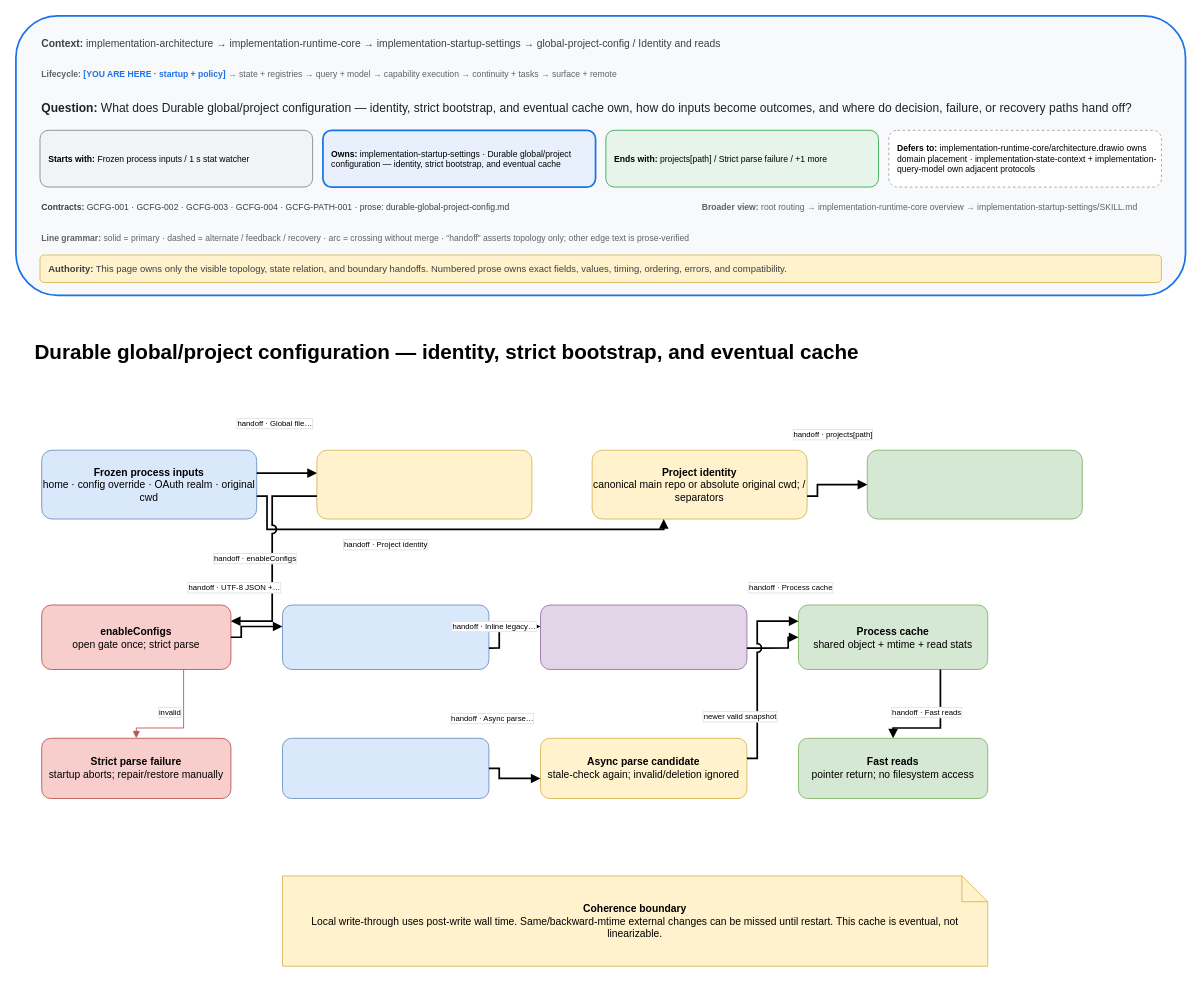
Image size: 1201x981. Some labels were removed from this diagram. The box of each missing label's shape, as (x1, y1, x2, y2) in pixels:
1 s stat watcher nonpersistent; mtime must advance: (282, 737, 489, 799)
CUSTOM DIAGRAM CONTEXT · v2.1: (15, 15, 1186, 296)
Global file identity legacy .config.json wins; otherwise realm-suffixed file: (316, 449, 532, 519)
Inline legacy migration autoUpdaterStatus → install method/update flag: (540, 604, 747, 670)
projects[path] trust · MCP · costs · worktree · remote spawn: (866, 449, 1082, 519)
UTF-8 JSON + BOM strip fresh defaults ⊕ shallow disk object: (282, 604, 489, 670)
